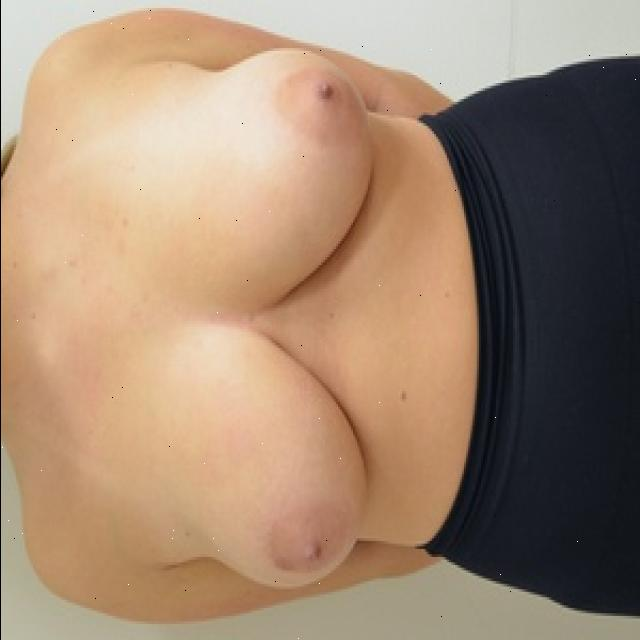Seno ileso: (157, 41, 390, 318), (157, 323, 386, 595)
